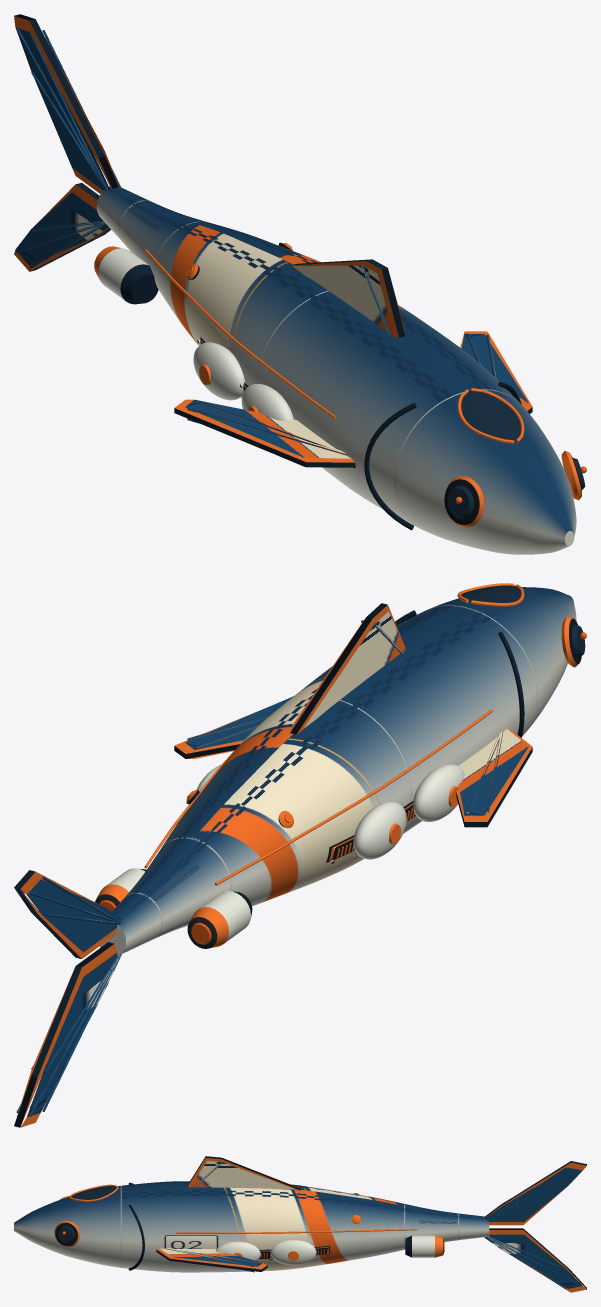
The picture shows the model from 3 angles, top to bottom: view 1: azimuth 30°, elevation 25°; view 2: azimuth 150°, elevation 25°; view 3: azimuth 270°, elevation 25°; orthographic projection. The views are drawn at different scales.
Visible parts, largest first — view 1: pilotfish_hull; view 2: pilotfish_hull; view 3: pilotfish_hull.
Boxes of the visible parts, <box> form: pilotfish_hull: <box>14,14,586,554</box>; pilotfish_hull: <box>14,583,586,1127</box>; pilotfish_hull: <box>14,1156,586,1292</box>.
Bounding box in the file's own units: 5.24 × 4.16 × 16.
Materials: 1 (1 with a texture image).
